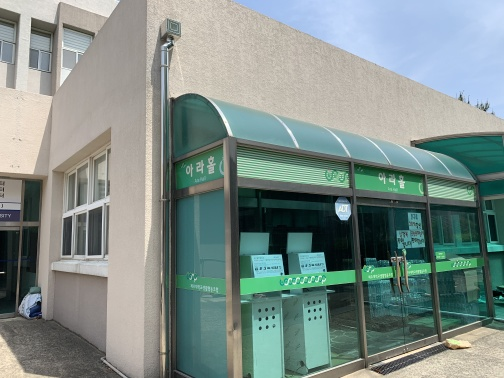Ara Hall: (58, 92, 500, 371)
